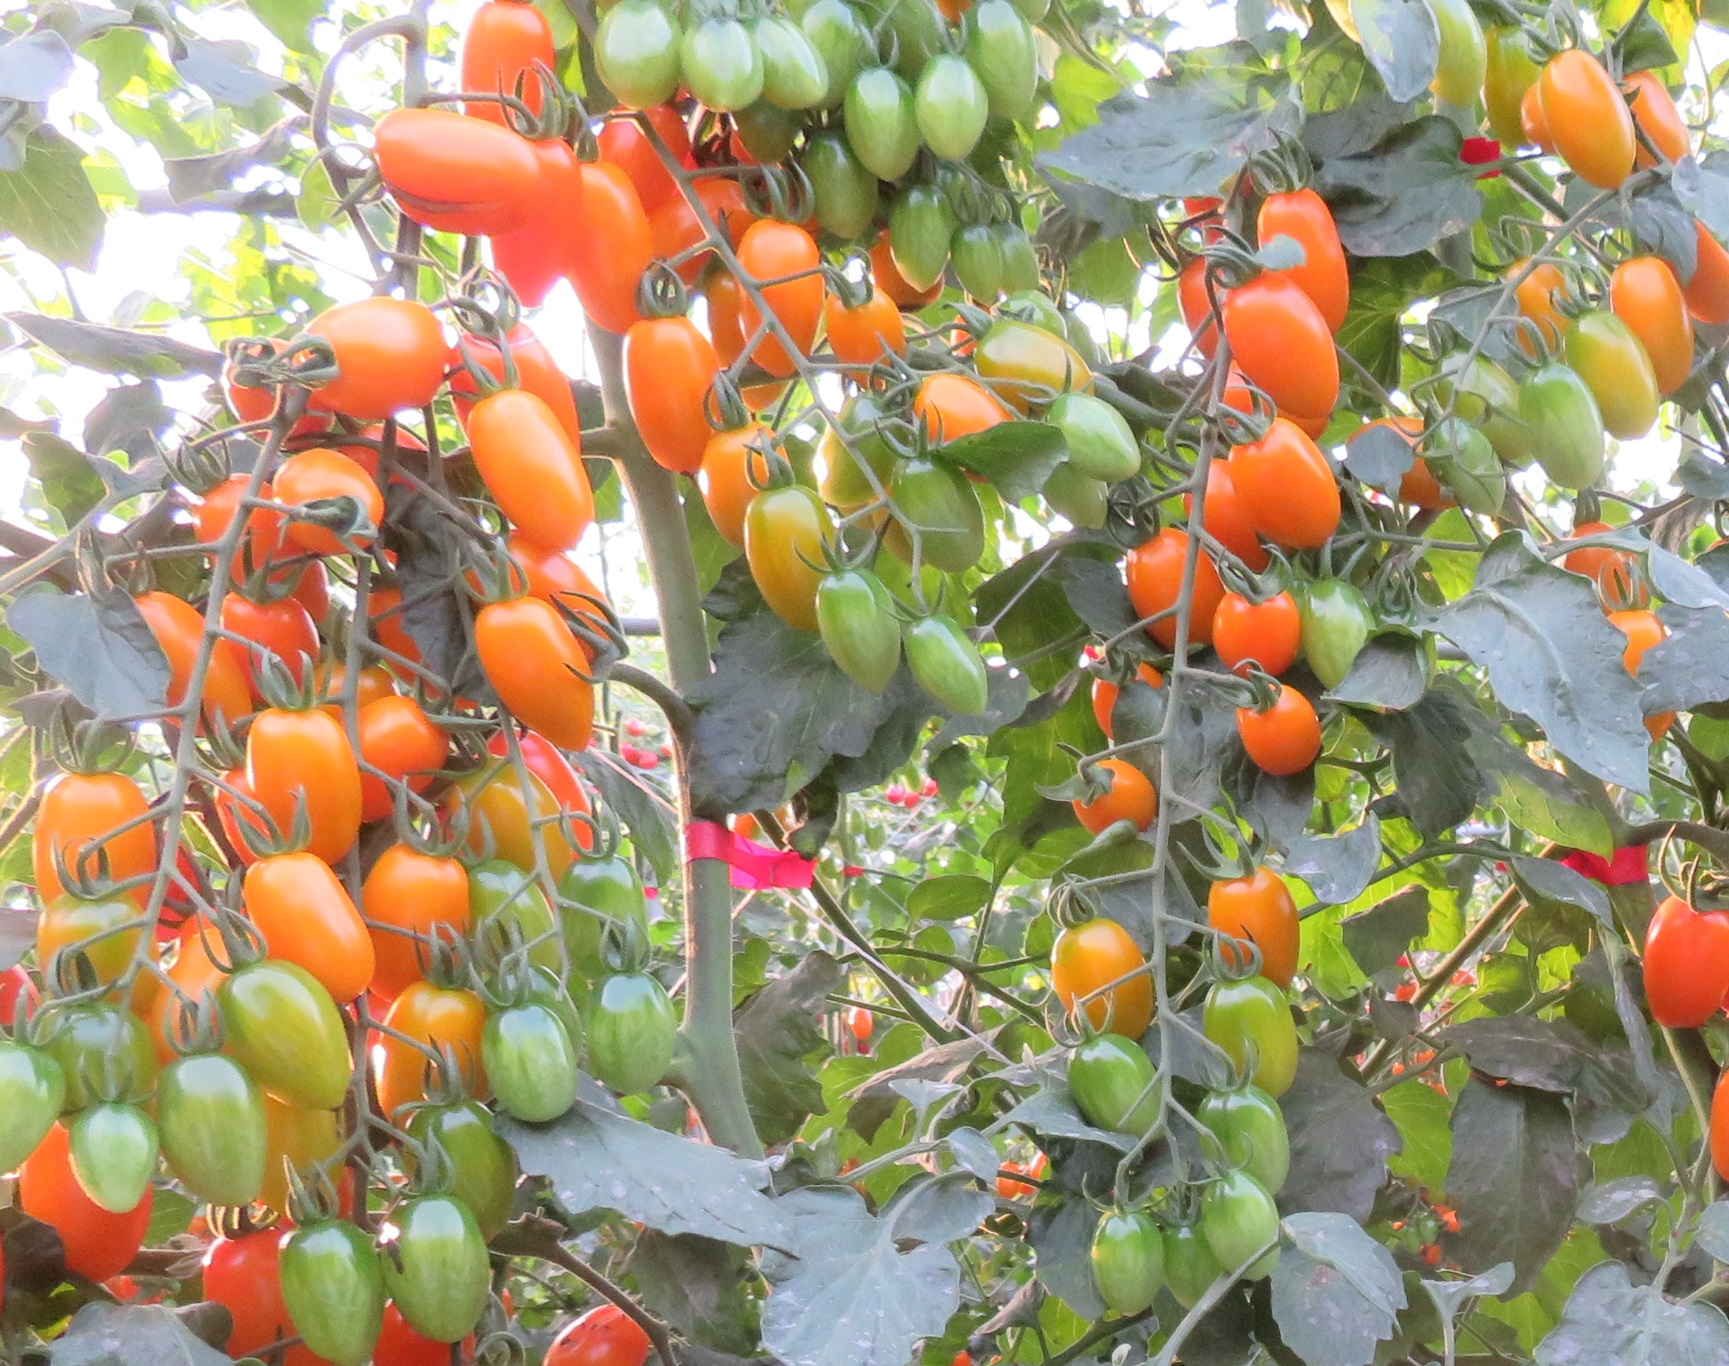green: (203, 962, 366, 1115), (378, 1196, 500, 1348), (152, 1060, 265, 1210), (472, 997, 596, 1125), (282, 1224, 394, 1366), (1507, 366, 1617, 491), (36, 997, 161, 1103), (542, 856, 660, 963), (952, 11, 1047, 136), (1190, 1167, 1293, 1279), (578, 981, 676, 1096), (1575, 314, 1659, 448), (65, 1103, 161, 1219), (1, 1030, 72, 1189), (1064, 1032, 1161, 1146), (472, 862, 564, 976), (810, 574, 895, 687), (596, 6, 682, 117), (1208, 983, 1295, 1089), (838, 67, 916, 180), (907, 65, 994, 166), (900, 615, 987, 715), (895, 468, 987, 562), (1085, 1210, 1162, 1321), (1297, 574, 1368, 694), (676, 18, 761, 114), (1047, 397, 1148, 475), (1431, 418, 1504, 521), (755, 11, 829, 111), (1197, 1094, 1287, 1172), (1429, 1, 1497, 104), (1040, 468, 1114, 538), (1437, 351, 1510, 417), (947, 225, 1005, 303), (1003, 229, 1046, 298)
orange: (220, 851, 386, 990), (275, 300, 458, 418), (465, 392, 599, 550), (479, 585, 603, 751), (358, 104, 535, 215), (1627, 858, 1729, 1046), (366, 981, 497, 1125), (244, 712, 368, 856), (35, 762, 161, 900), (1227, 407, 1344, 548), (1222, 279, 1344, 410), (1528, 52, 1641, 190), (617, 312, 709, 477), (363, 841, 472, 976), (1044, 921, 1162, 1035), (737, 220, 822, 373), (575, 159, 653, 327), (1120, 524, 1217, 651), (1613, 251, 1695, 390), (225, 583, 323, 696), (1201, 862, 1295, 980), (462, 6, 561, 117), (275, 449, 378, 548), (131, 587, 201, 722), (1213, 576, 1302, 679), (368, 701, 455, 804), (1234, 687, 1330, 779), (1255, 197, 1342, 298), (189, 468, 274, 571), (1561, 522, 1662, 608), (905, 376, 1016, 453), (820, 286, 907, 383), (1064, 751, 1159, 835), (458, 329, 575, 393), (543, 1306, 655, 1366), (699, 428, 751, 552), (1175, 251, 1227, 364), (1605, 608, 1676, 674), (1707, 1068, 1729, 1189)
